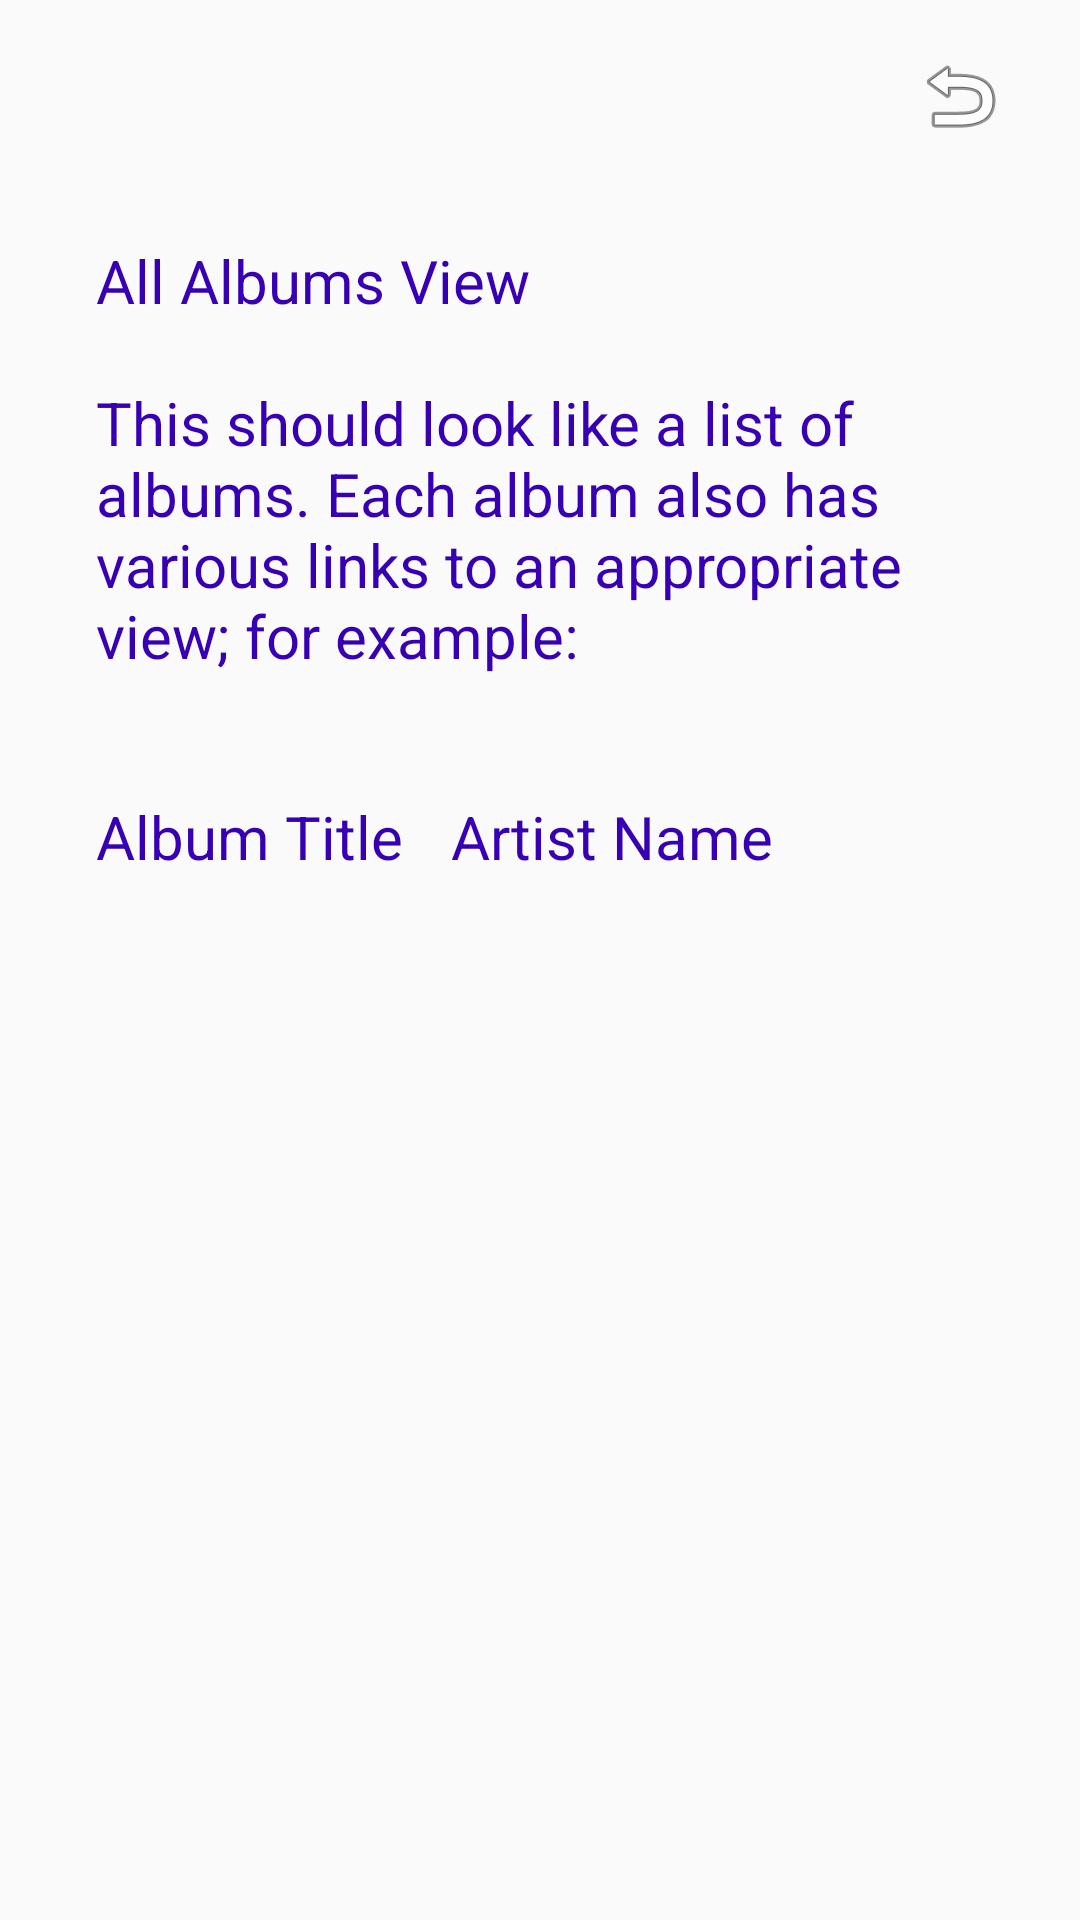

Screen size 1080*1920. Icon name, then its center in pixels as (x=x, y=y):
revert: (x=961, y=96)
